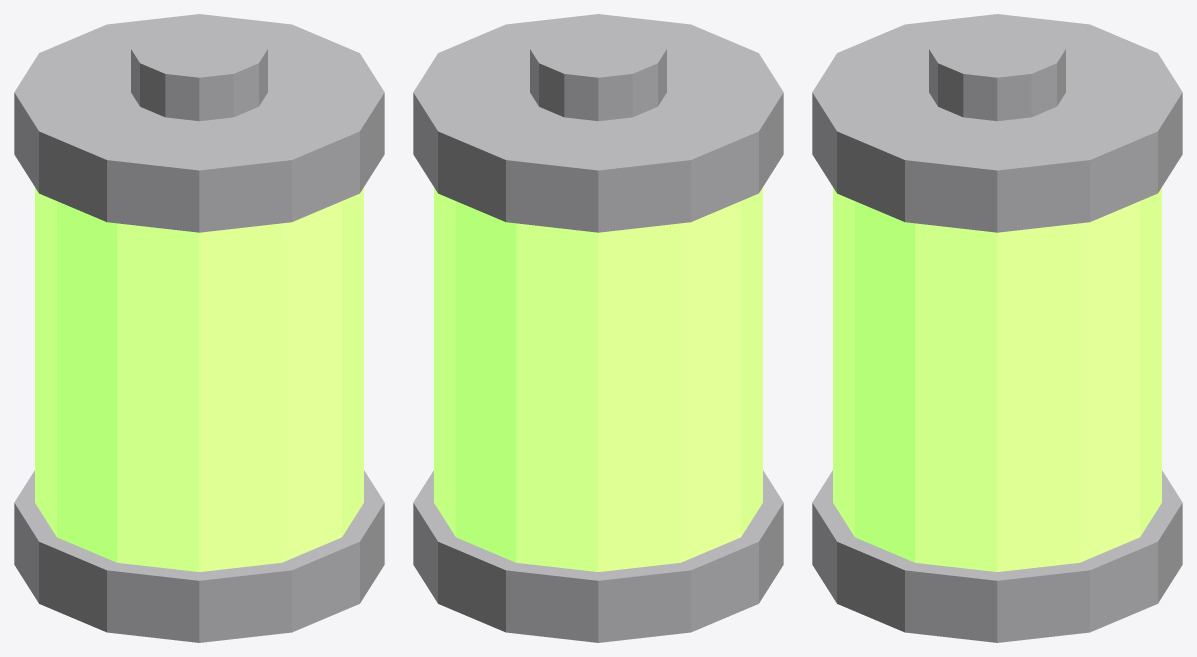
Rendered from battery.glb.
The picture shows the model from 3 angles, left to right: view 1: azimuth 30°, elevation 25°; view 2: azimuth 150°, elevation 25°; view 3: azimuth 270°, elevation 25°; orthographic projection.
Visible parts, largest first — view 1: BatteryMesh; view 2: BatteryMesh; view 3: BatteryMesh.
Boxes of the visible parts, left/top/right/bottom form: BatteryMesh: left=14, top=14, right=384, bottom=642; BatteryMesh: left=413, top=14, right=783, bottom=642; BatteryMesh: left=812, top=14, right=1182, bottom=642.
Bounding box in the file's own units: 0.54 × 0.83 × 0.54.
